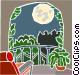chair: (1, 51, 34, 75)
pottedplant: (48, 47, 71, 71)
